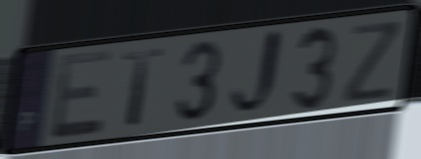3: (289, 22, 339, 114), (174, 36, 223, 126)
E: (47, 45, 115, 144)
J: (227, 24, 287, 124)
T: (121, 45, 167, 130)
Z: (339, 17, 406, 107)
